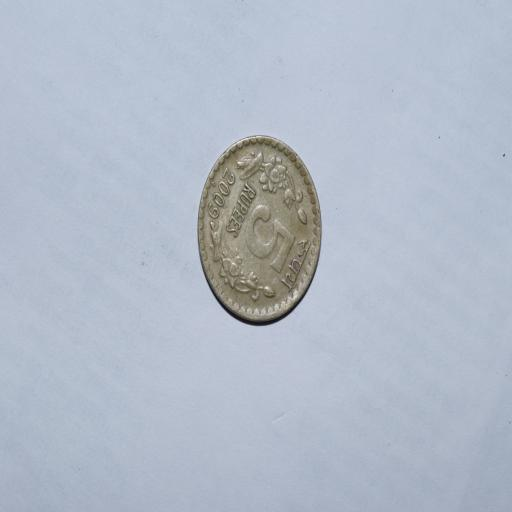rupee5: (195, 134, 322, 324)
